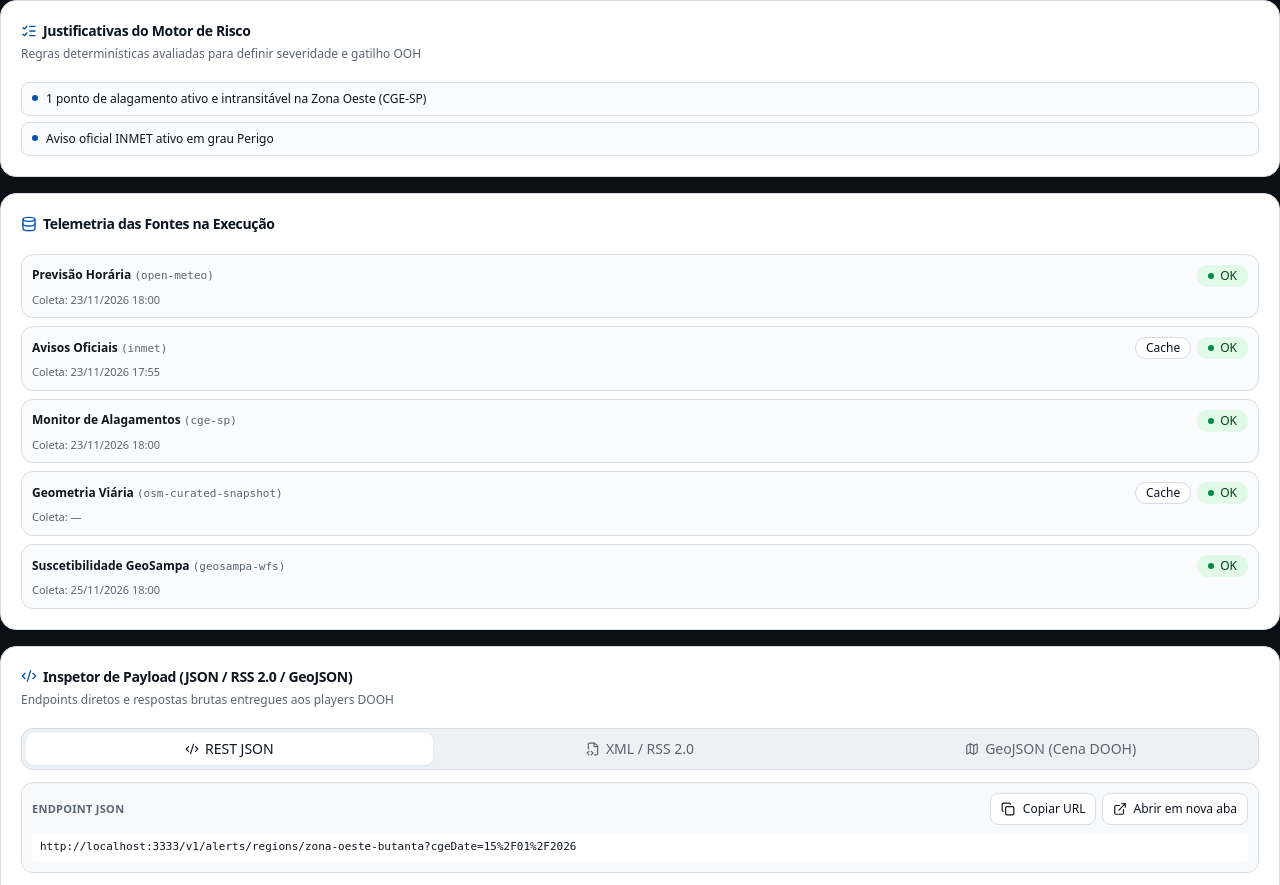
Test: TechnicalInspectorTab › renders reasons, 5-source telemetry when scene is provided, JSON, XML RSS 2.0 and GeoJSON (Cena DOOH)
Expected: the text "1 ponto de alagamento ativo e intransitável na Zona Oeste (CGE-SP)" is shown, x1=46 y1=91 x2=426 y2=107
Expected: the text "(open-meteo)" is shown, x1=134 y1=269 x2=214 y2=282
Click the button "Copiar URL": (1043, 809) x1=990 y1=793 x2=1096 y2=825
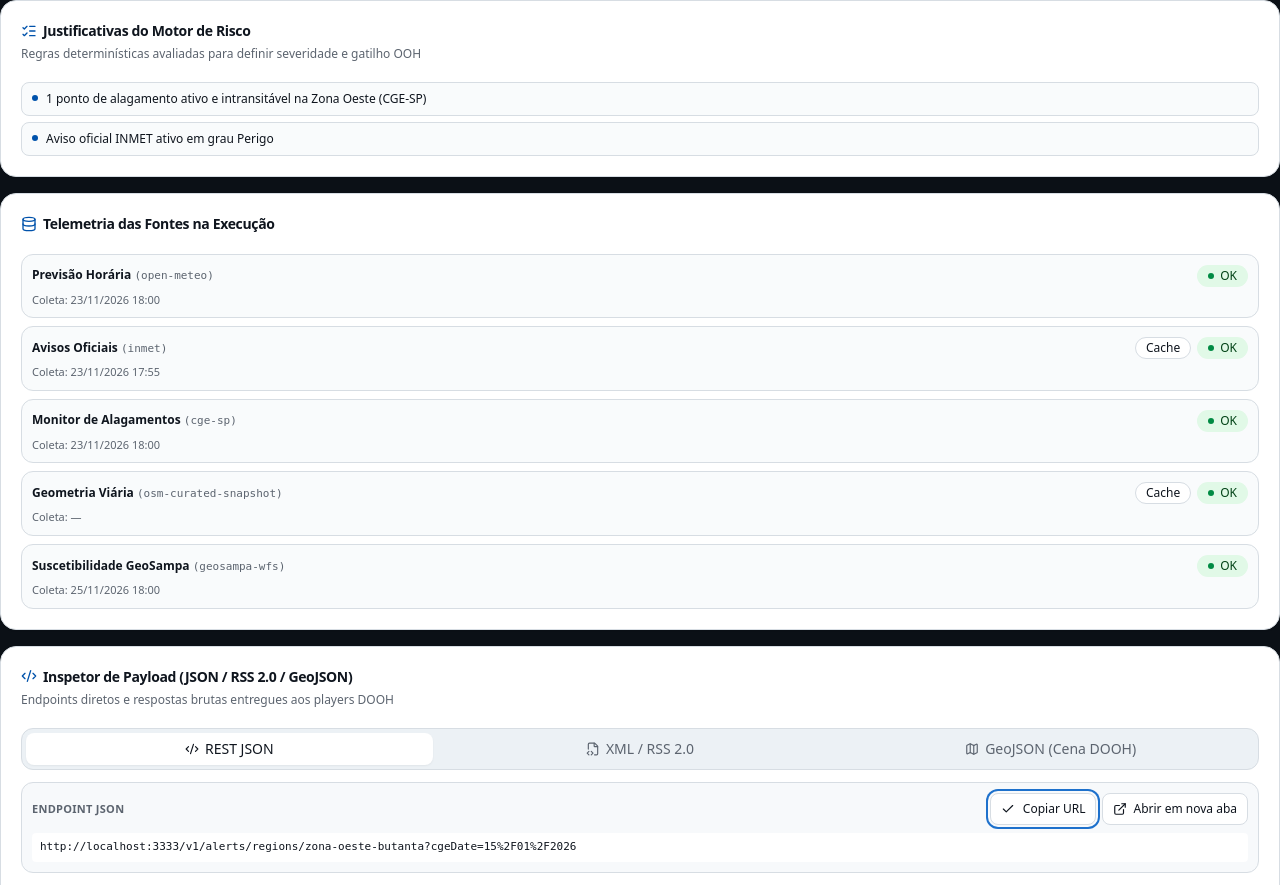
Click the tab "XML / RSS 2.0": (640, 749) x1=437 y1=733 x2=843 y2=765
(page scrolled)
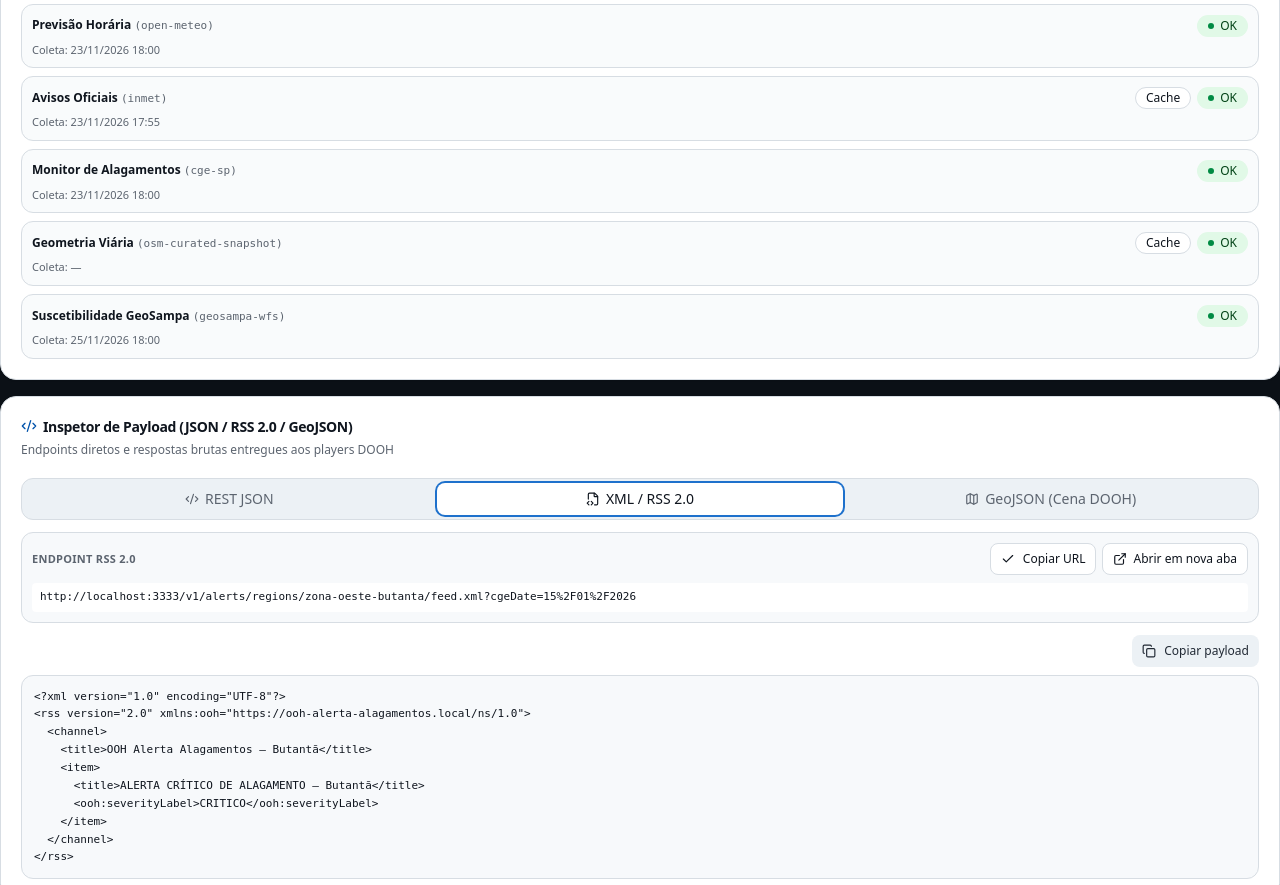
Expected: the text "<ooh:severityLabel>CRITICO</ooh:severityLabel>" is shown, x1=34 y1=690 x2=531 y2=863
Click the button "Copiar payload": (1196, 650) x1=1132 y1=634 x2=1259 y2=666
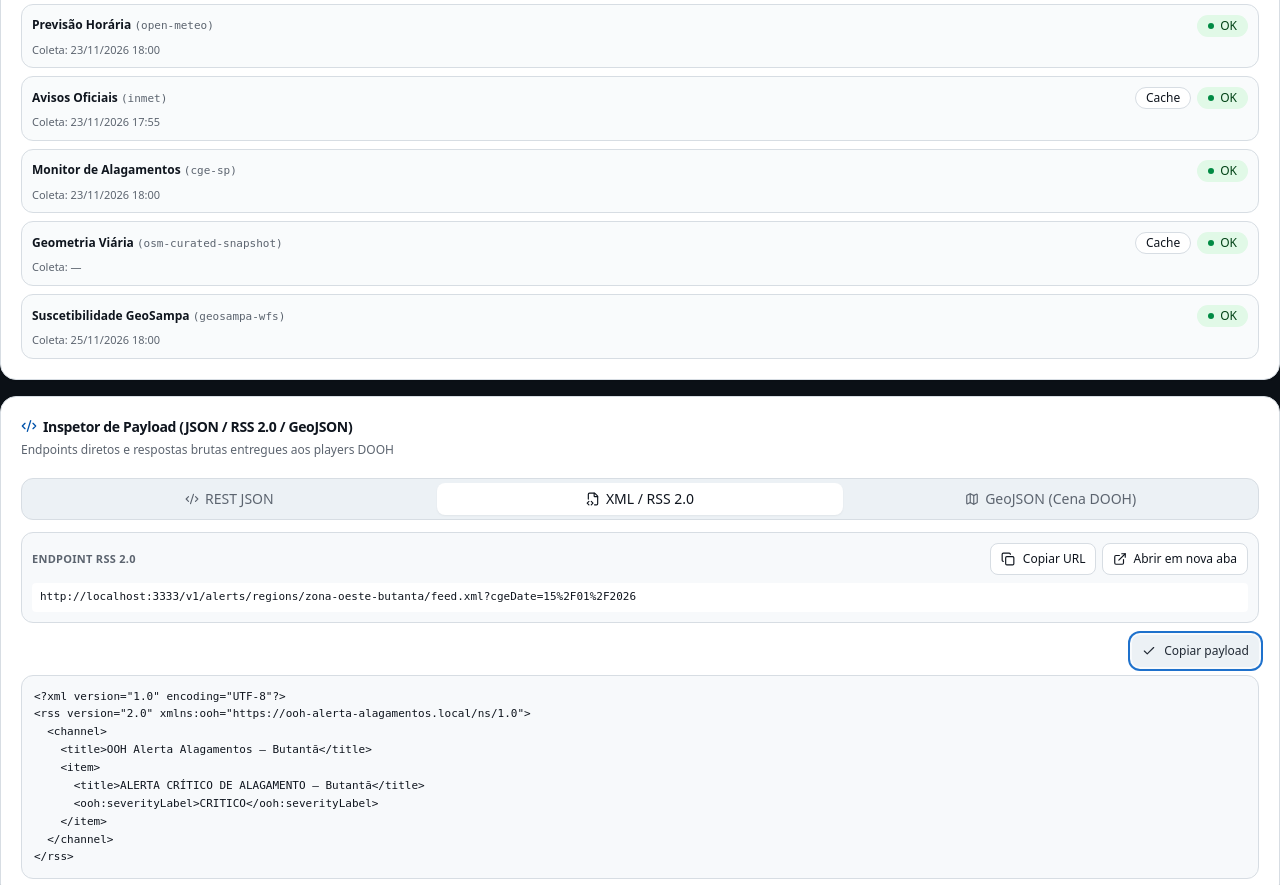
Click the tab "GeoJSON (Cena DOOH)": (1051, 499) x1=847 y1=483 x2=1254 y2=515
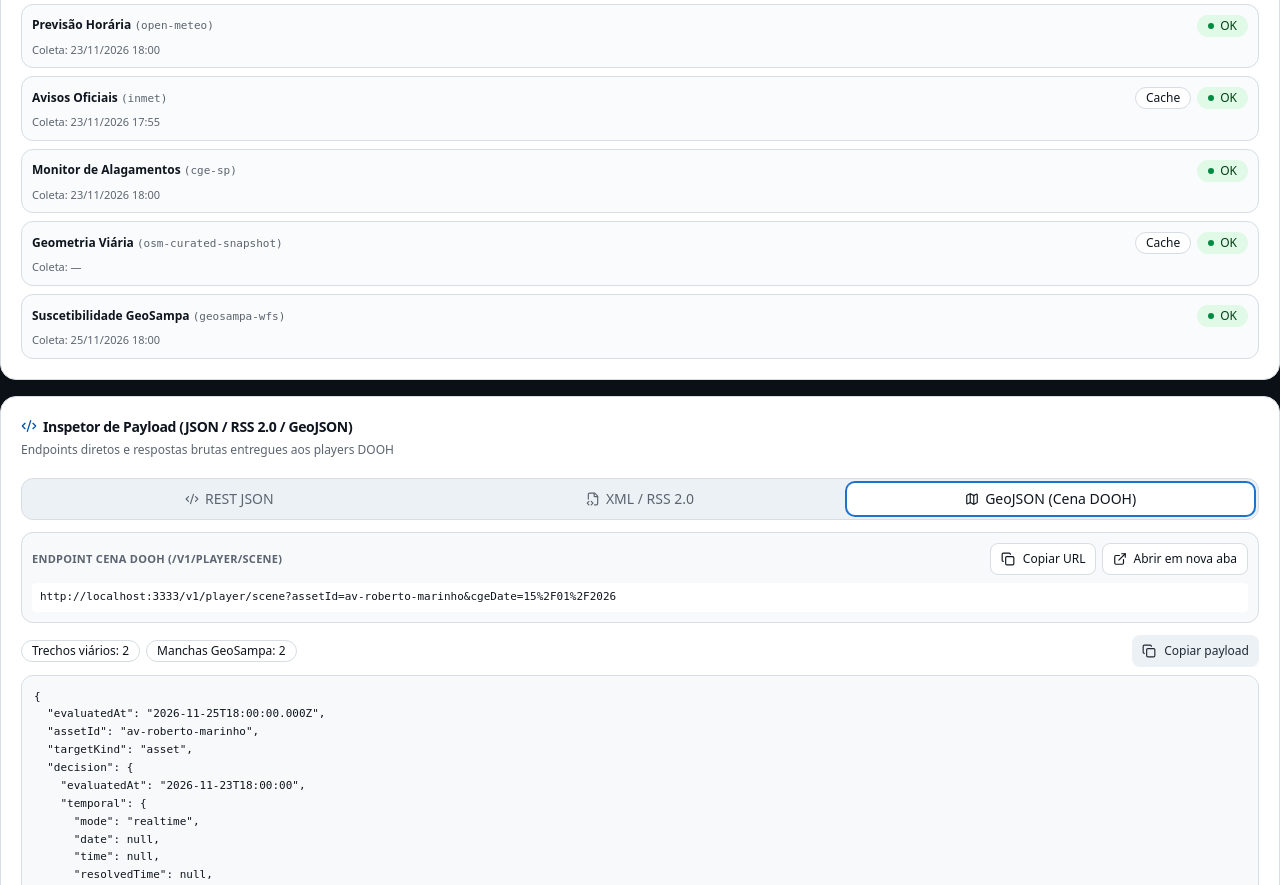
Expected: the text "Trechos viários: 2" is shown, x1=21 y1=640 x2=140 y2=662
Expected: the text "Manchas GeoSampa: 2" is shown, x1=146 y1=640 x2=296 y2=662
